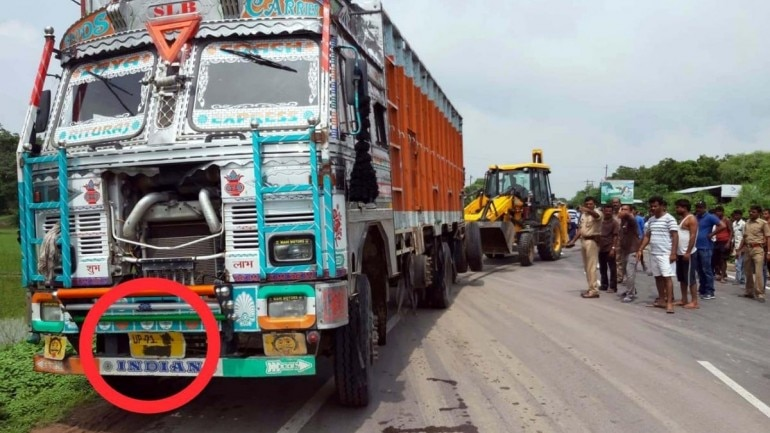truck: (30, 7, 457, 403)
